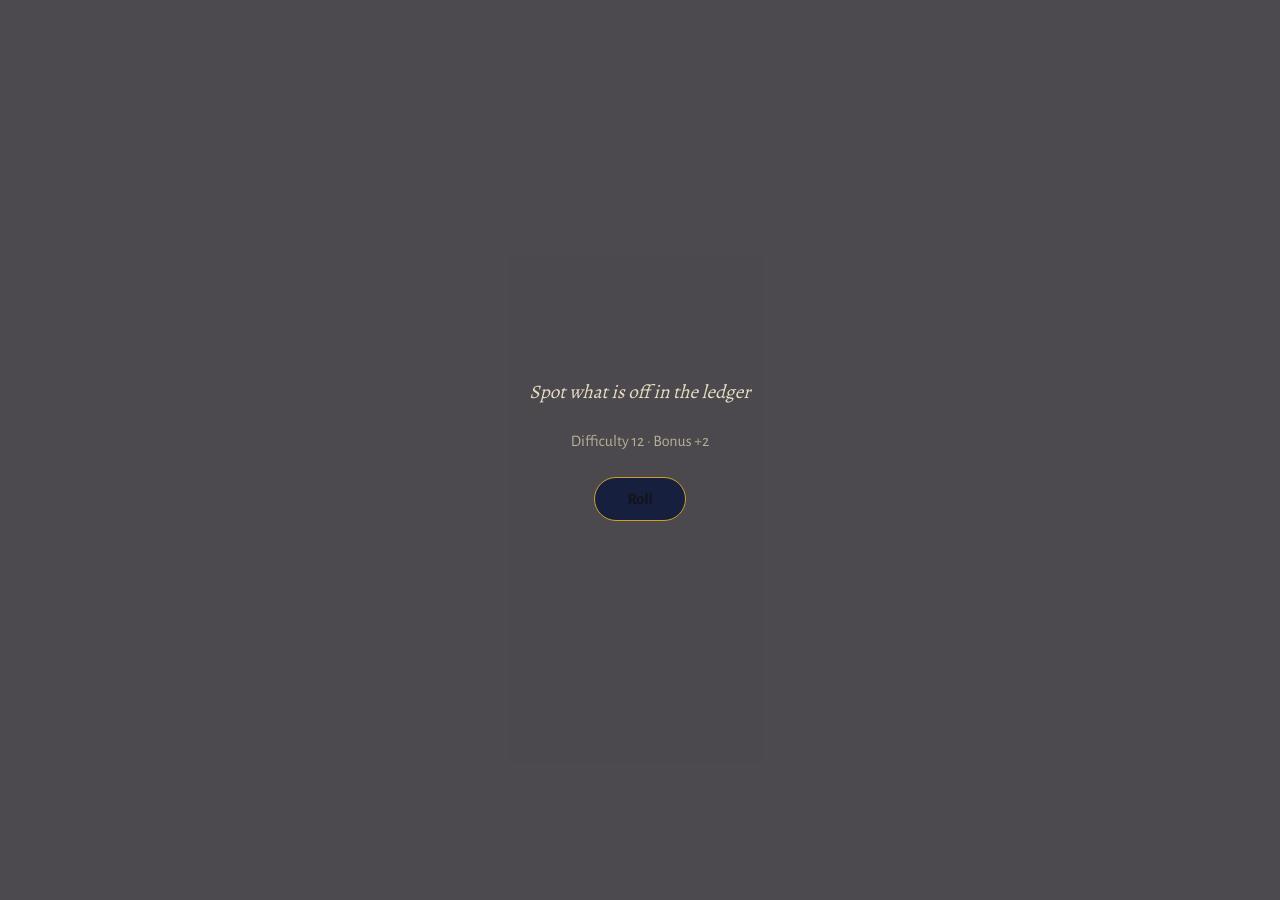
Test case: DiceMoment › success: shows the sum against the difficulty, the verdict and Continue only
This screenshot has width=1280, height=900.
Later steps or results of the test are not shown.
Step 1. Click the button "Roll" → [640, 499], box top-left (594, 477), bottom-right (686, 521)
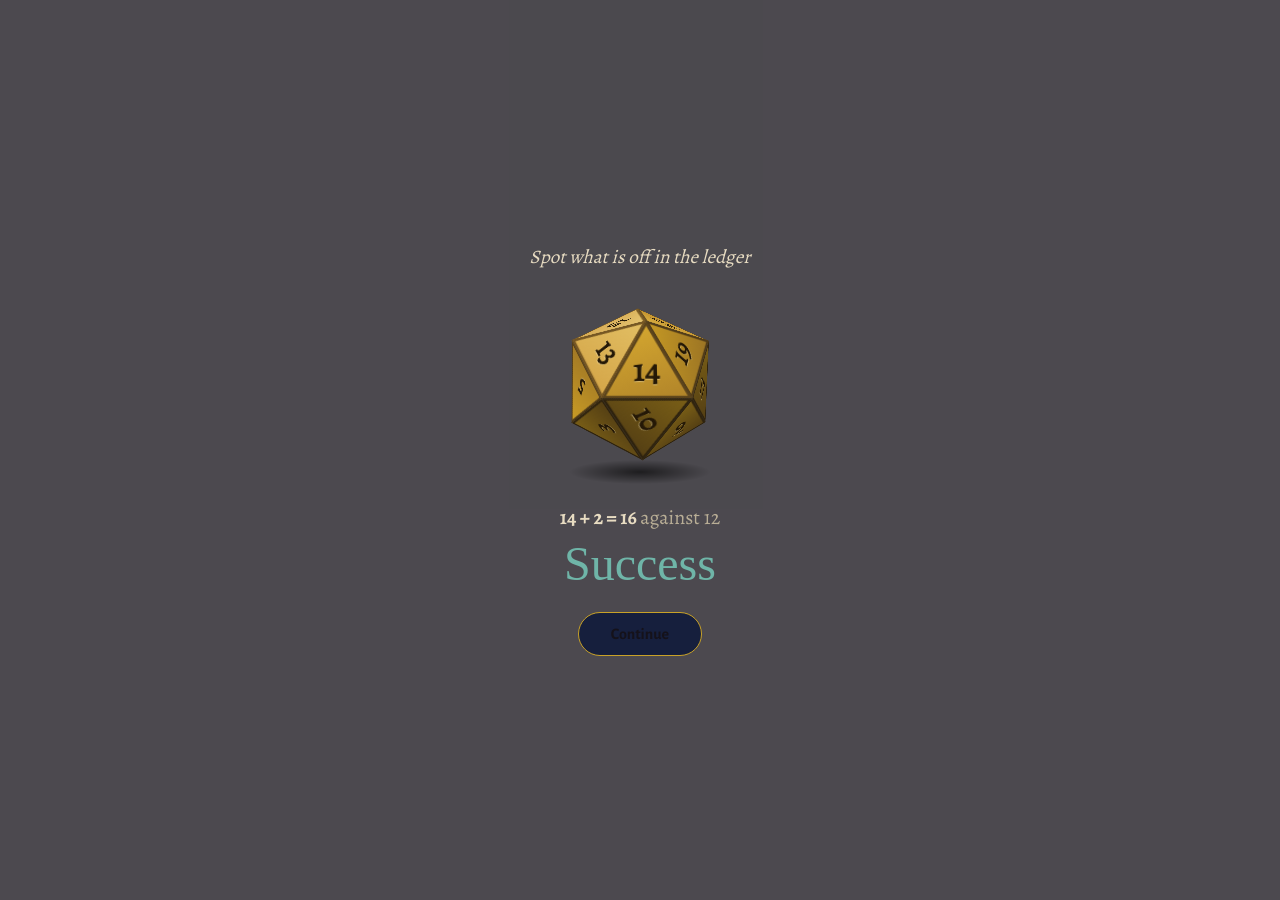
Expected: the element with test id "dice-sum" reads "14 + 2 = 16 against 12", top-left (560, 504), bottom-right (720, 532)
Expected: the text with test id "dice-verdict" reads "Success", top-left (564, 537), bottom-right (716, 590)
